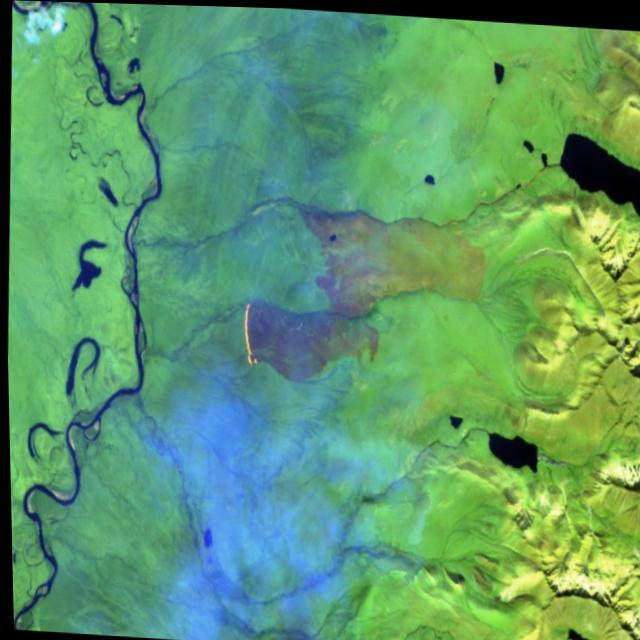fire: (233, 279, 262, 375)
